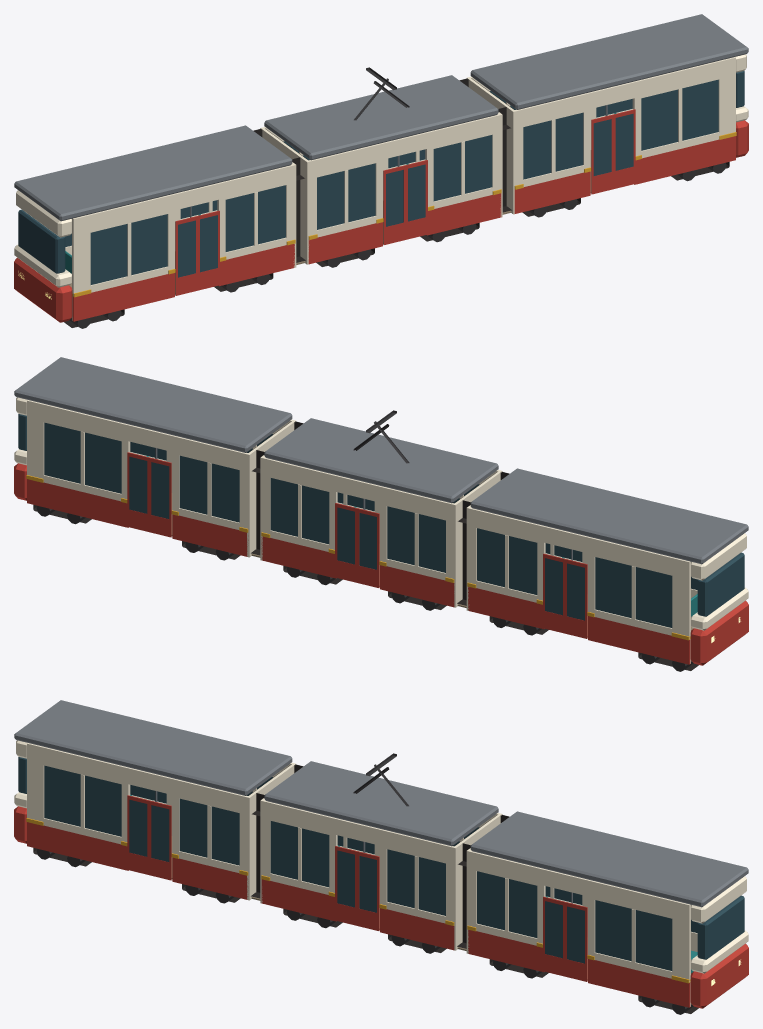
The model's file is tram.glb.
The picture shows the model from 3 angles, top to bottom: view 1: azimuth 30°, elevation 25°; view 2: azimuth 150°, elevation 25°; view 3: azimuth 330°, elevation 25°; orthographic projection.
Visible parts, largest first — view 1: body, roof, door_right_0_aft, door_right_1_aft, door_right_2_aft, door_right_0_fore, door_right_2_fore, door_right_1_fore; view 2: body, roof, door_left_0_aft, door_left_1_aft, door_left_2_aft, door_left_0_fore, door_left_2_fore, door_left_1_fore; view 3: body, roof, door_right_2_fore, door_right_0_fore, door_right_1_fore, door_right_2_aft, door_right_0_aft, door_right_1_aft.
Part boxes in pixels (bbox=[...]): body: bbox=[14, 54, 748, 328]; roof: bbox=[14, 14, 748, 221]; door_right_0_aft: bbox=[591, 114, 613, 194]; door_right_1_aft: bbox=[383, 165, 405, 244]; door_right_2_aft: bbox=[175, 216, 197, 295]; door_right_0_fore: bbox=[613, 109, 635, 188]; door_right_2_fore: bbox=[198, 210, 219, 290]; door_right_1_fore: bbox=[405, 160, 427, 239]; body: bbox=[14, 397, 748, 671]; roof: bbox=[14, 357, 748, 564]; door_left_0_aft: bbox=[149, 457, 171, 537]; door_left_1_aft: bbox=[357, 508, 379, 587]; door_left_2_aft: bbox=[565, 559, 587, 638]; door_left_0_fore: bbox=[127, 452, 149, 531]; door_left_2_fore: bbox=[543, 553, 564, 633]; door_left_1_fore: bbox=[335, 503, 357, 582]; body: bbox=[14, 740, 748, 1014]; roof: bbox=[14, 700, 748, 907]; door_right_2_fore: bbox=[149, 800, 171, 880]; door_right_0_fore: bbox=[565, 902, 587, 981]; door_right_1_fore: bbox=[357, 851, 379, 930]; door_right_2_aft: bbox=[127, 795, 149, 874]; door_right_0_aft: bbox=[543, 896, 564, 976]; door_right_1_aft: bbox=[335, 846, 357, 925].
Bounding box in the file's own units: 20.5 × 4.47 × 2.5.
